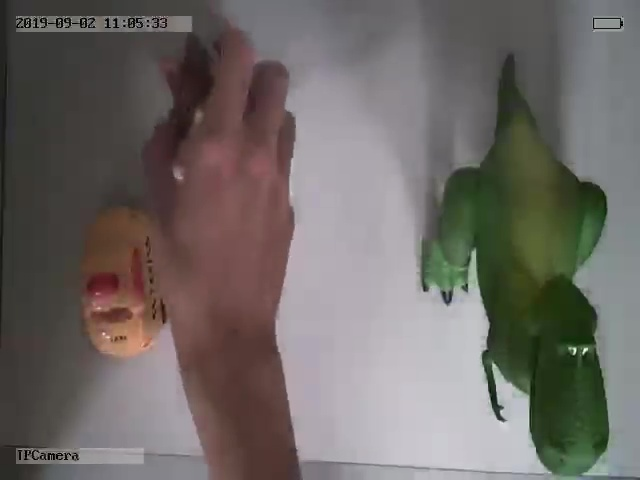rex: (422, 92, 611, 476)
